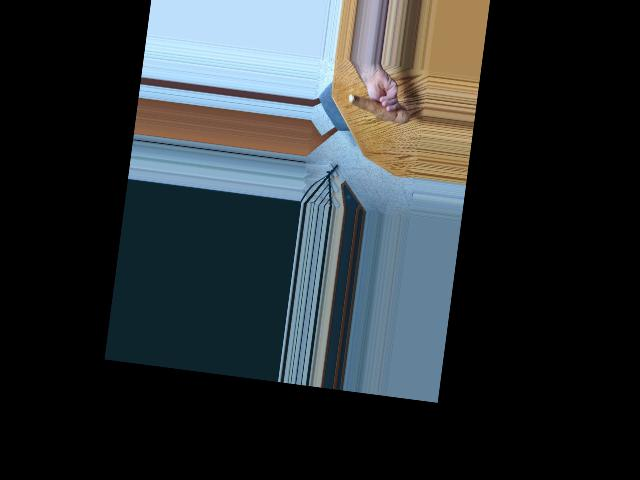sweet_potato: (348, 91, 409, 127)
